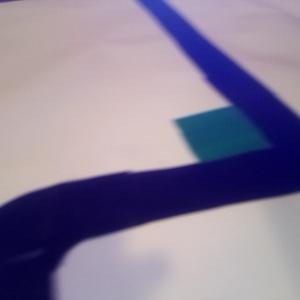top_left: (177, 106, 287, 196)
